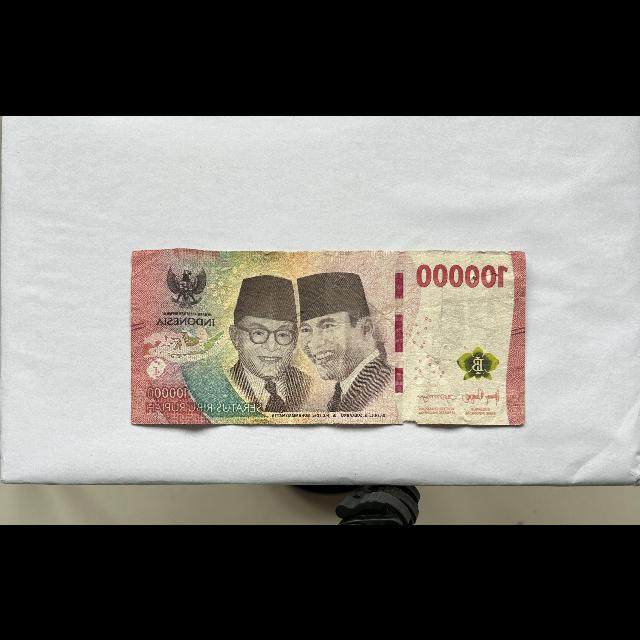Palsu-100k: (129, 246, 527, 427)
Tinta-Palsu-100k: (456, 344, 500, 380)
